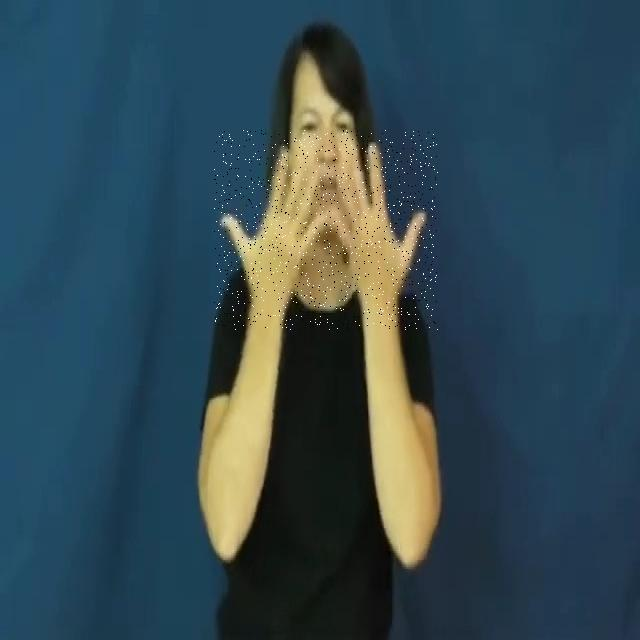cold: (214, 130, 438, 330)
